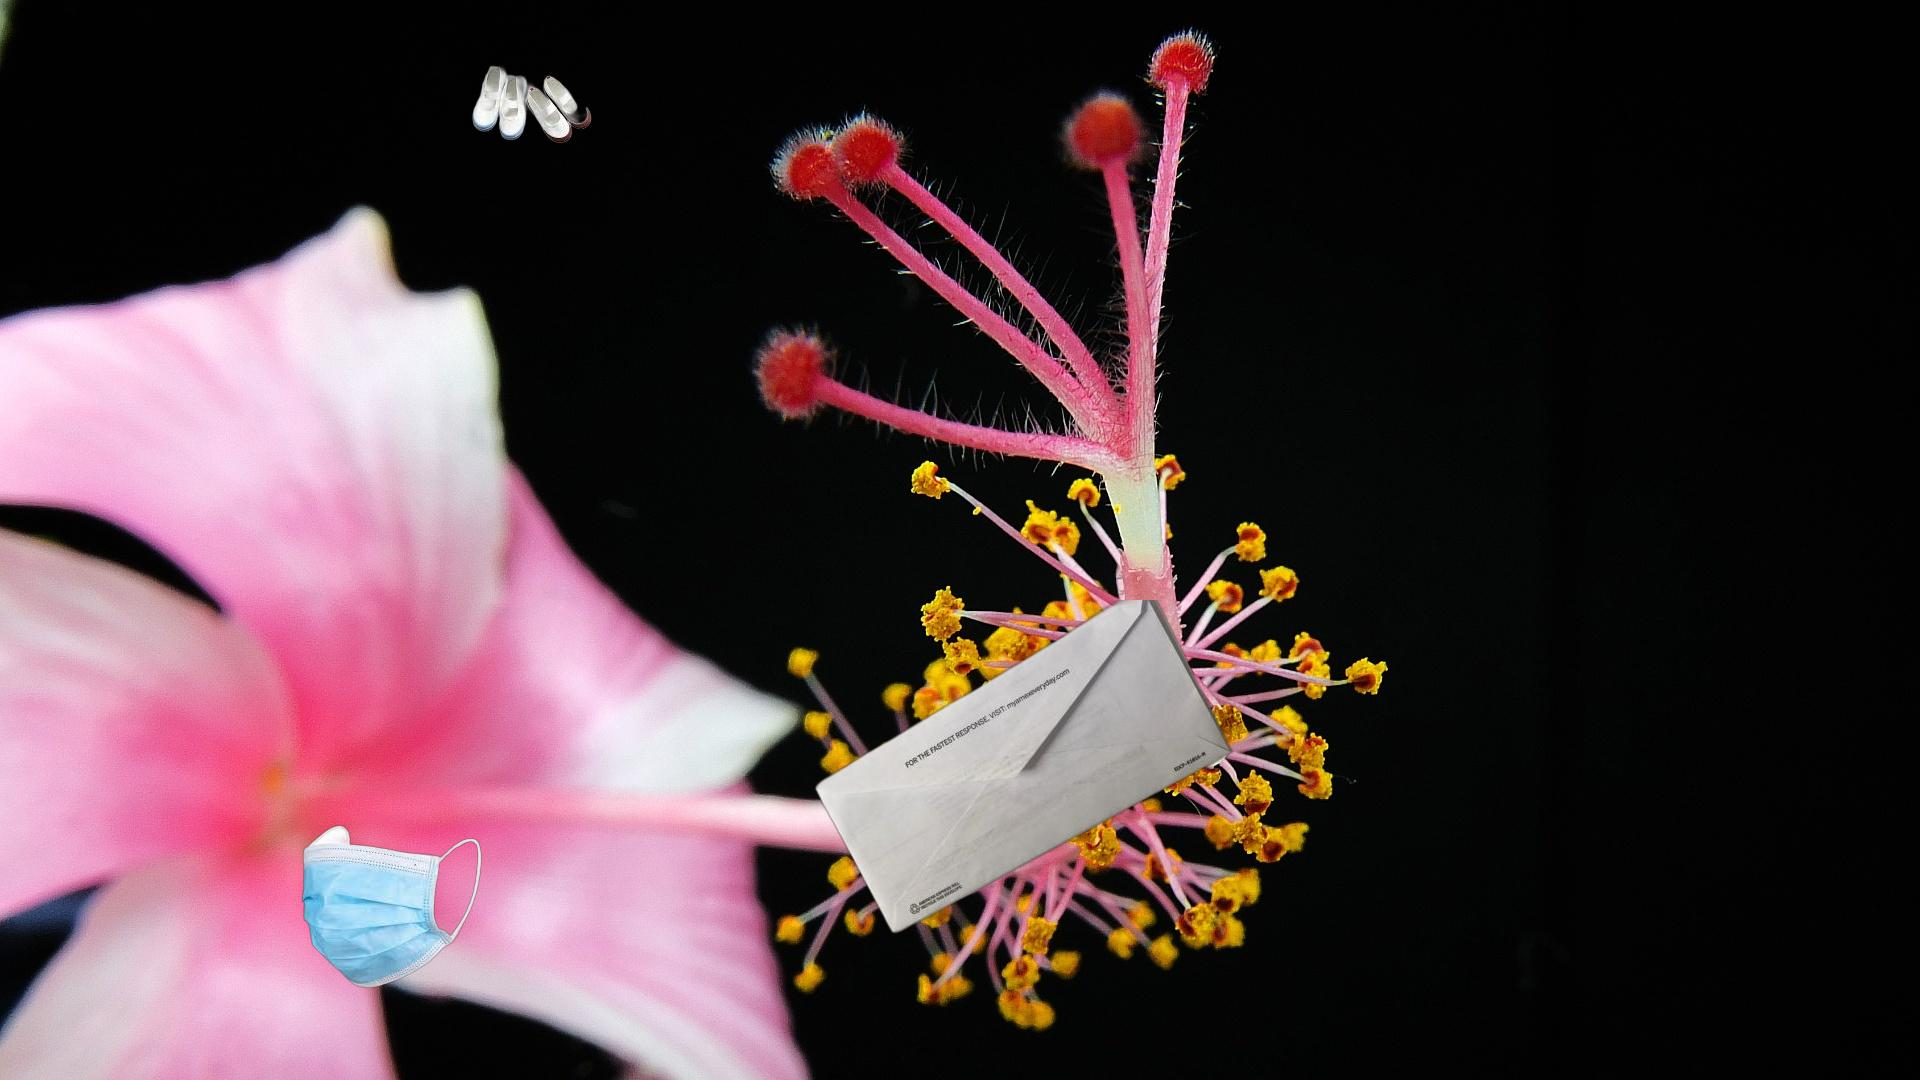paper: (811, 600, 1237, 936)
shoes: (469, 62, 593, 146)
trash: (299, 823, 484, 992)
